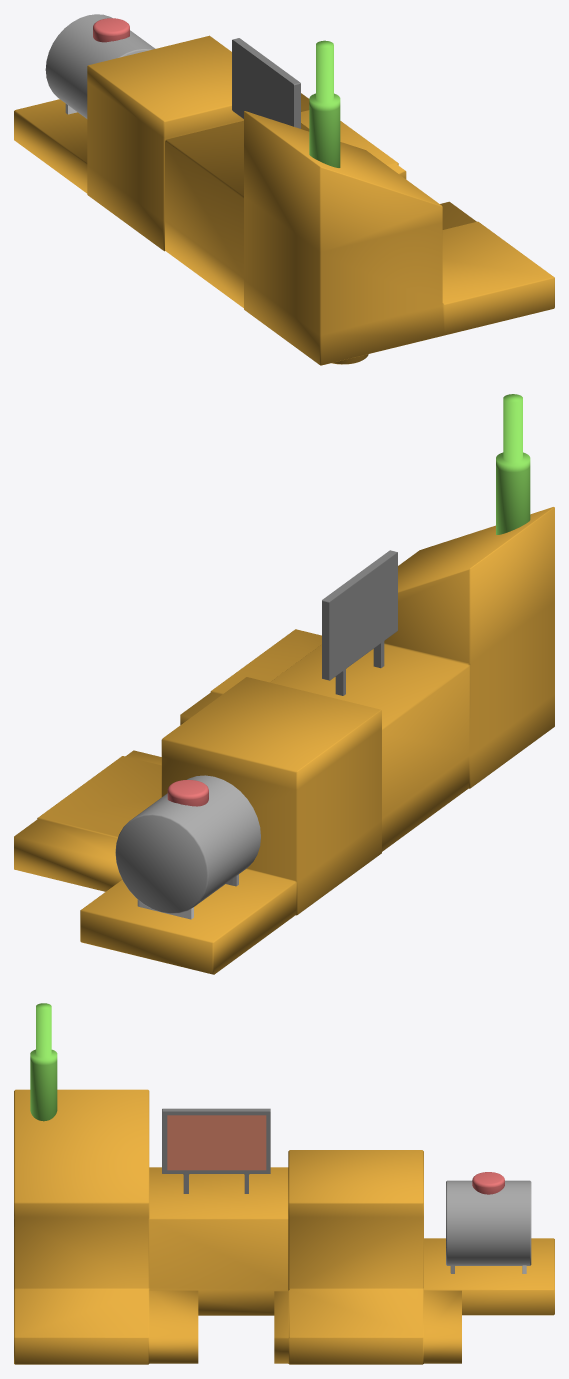
File: Build.fbx
The picture shows the model from 3 angles, top to bottom: view 1: azimuth 30°, elevation 25°; view 2: azimuth 150°, elevation 25°; view 3: azimuth 270°, elevation 25°; orthographic projection. The views are drawn at different scales.
Visible parts, largest first — view 1: Cube, Cube.001, Cylinder, Cube.002, Cylinder.001; view 2: Cube.001, Cube, Cylinder, Cube.002, Cylinder.001; view 3: Cube, Cube.001, Cube.002, Cylinder, Cylinder.001.
Boxes of the visible parts, x1,y1,x2,y2 form: Cube: [165, 40, 554, 365]; Cube.001: [14, 35, 406, 251]; Cylinder: [45, 14, 155, 118]; Cube.002: [232, 38, 300, 128]; Cylinder.001: [93, 18, 129, 42]; Cube.001: [14, 677, 381, 974]; Cube: [180, 394, 554, 851]; Cylinder: [115, 775, 260, 913]; Cube.002: [322, 550, 397, 695]; Cylinder.001: [167, 780, 208, 806]; Cube: [14, 1003, 288, 1364]; Cube.001: [274, 1150, 554, 1364]; Cube.002: [162, 1108, 270, 1193]; Cylinder: [446, 1180, 531, 1265]; Cylinder.001: [472, 1172, 504, 1194].
Size of the model in its own units: 439 by 597 by 995.
